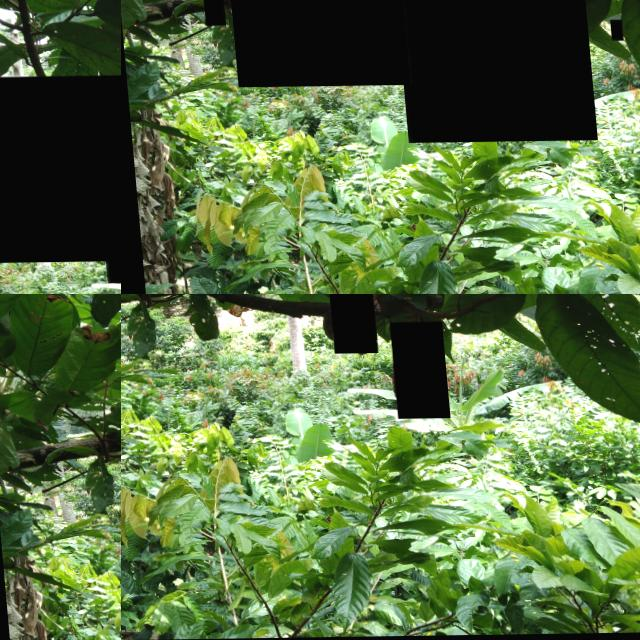Fitoftora: (376, 0, 589, 143), (211, 0, 404, 87), (604, 21, 617, 42)
Sana: (0, 75, 121, 264), (384, 323, 443, 420), (321, 294, 371, 354), (98, 258, 121, 284), (197, 0, 219, 26), (590, 16, 606, 36)
